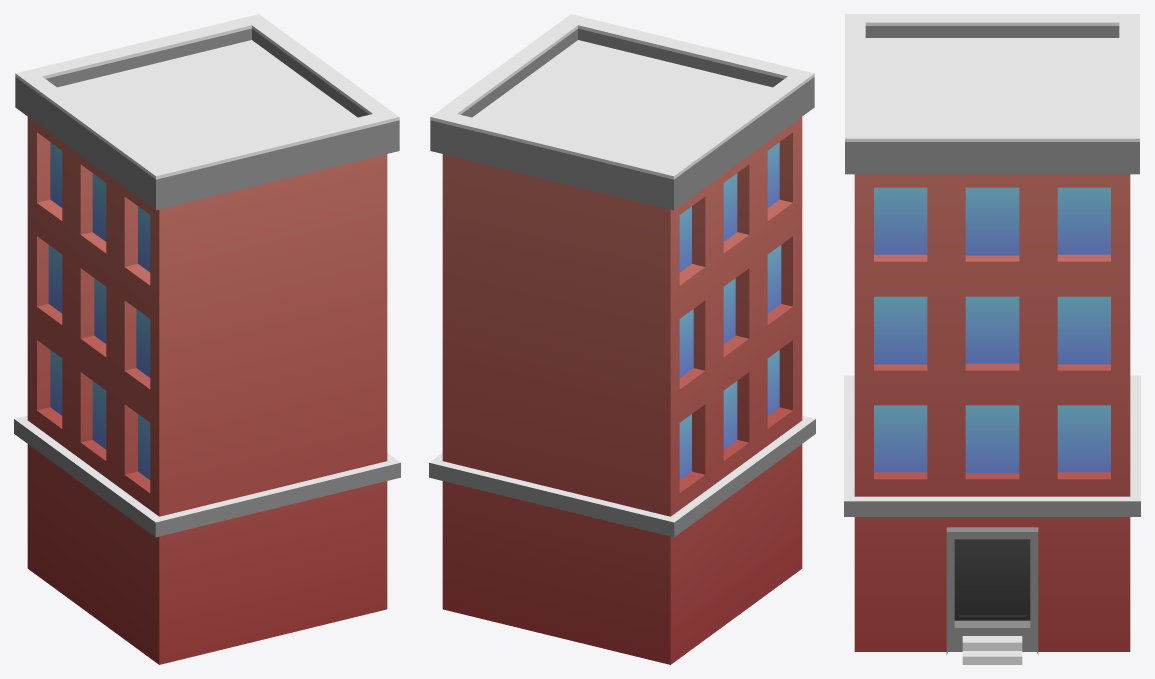
File: build1.fbx
The picture shows the model from 3 angles, left to right: view 1: azimuth 30°, elevation 25°; view 2: azimuth 150°, elevation 25°; view 3: azimuth 270°, elevation 25°; orthographic projection. The views are drawn at different scales.
Parts seen in each view (by area): view 1: pCube21; view 2: pCube21; view 3: pCube21.
Part boxes in pixels (left/top/right/bottom): pCube21: left=14, top=14, right=400, bottom=664; pCube21: left=429, top=14, right=815, bottom=664; pCube21: left=844, top=14, right=1140, bottom=664.
Size of the model in its own units: 4.93 by 8.92 by 4.63.
